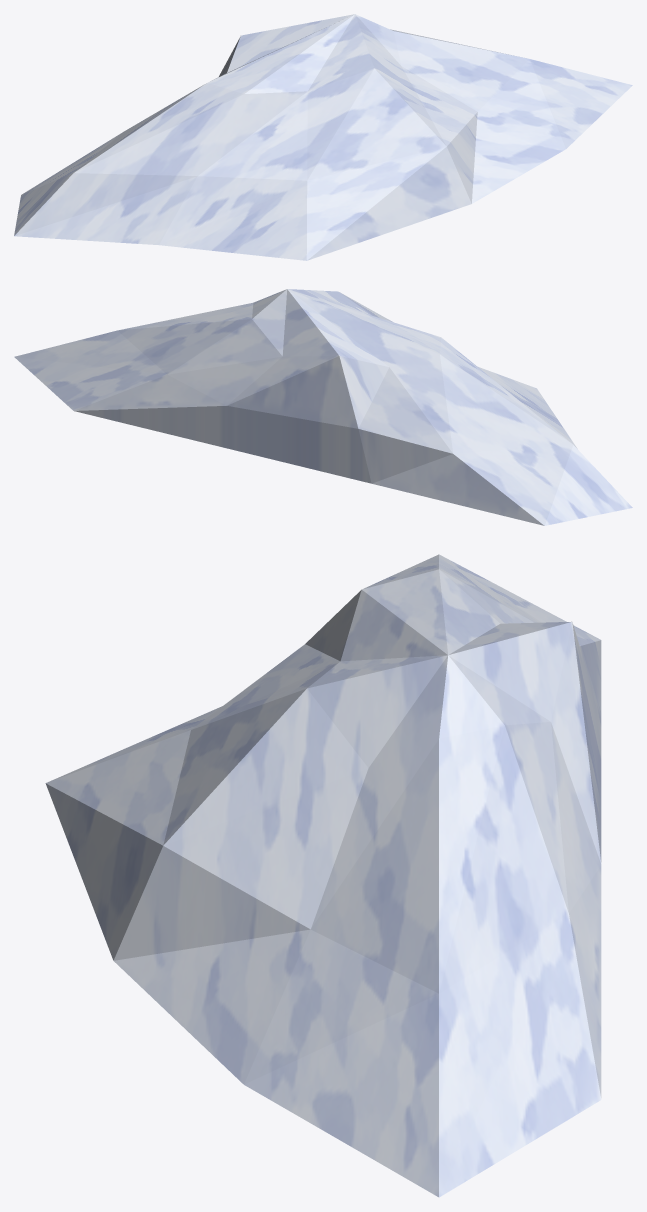
Rendered from drift_fence.glb.
The picture shows the model from 3 angles, top to bottom: view 1: azimuth 30°, elevation 25°; view 2: azimuth 150°, elevation 25°; view 3: azimuth 270°, elevation 25°; orthographic projection. The views are drawn at different scales.
Visible parts, largest first — view 1: winter_drift_fence; view 2: winter_drift_fence; view 3: winter_drift_fence.
Part boxes in pixels (<box>): winter_drift_fence: <box>14,14,632,260</box>; winter_drift_fence: <box>14,289,632,525</box>; winter_drift_fence: <box>45,554,601,1197</box>.
Size of the model in its own units: 1.8 by 0.38 by 0.7.
1 material, 1 textured.
